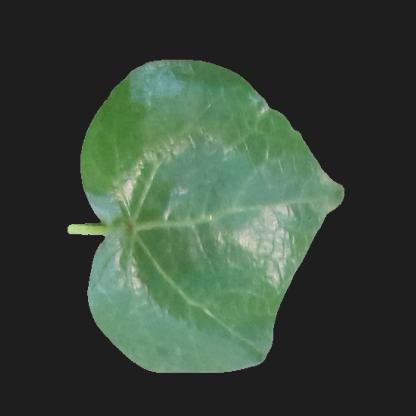healthy: (108, 116, 278, 310), (135, 306, 233, 370), (276, 166, 320, 246)
